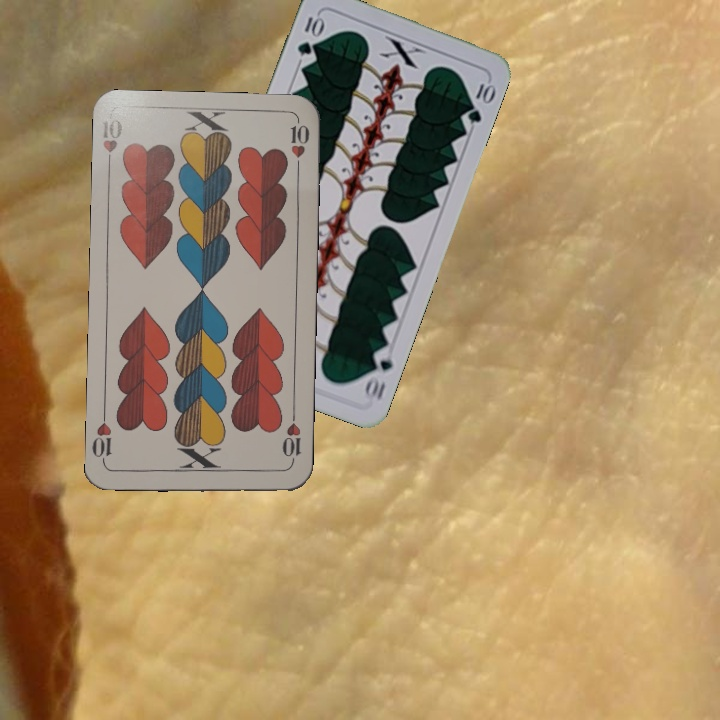G10: (360, 343, 396, 403), (293, 11, 325, 58)
H10: (278, 409, 304, 468), (99, 115, 125, 173)
